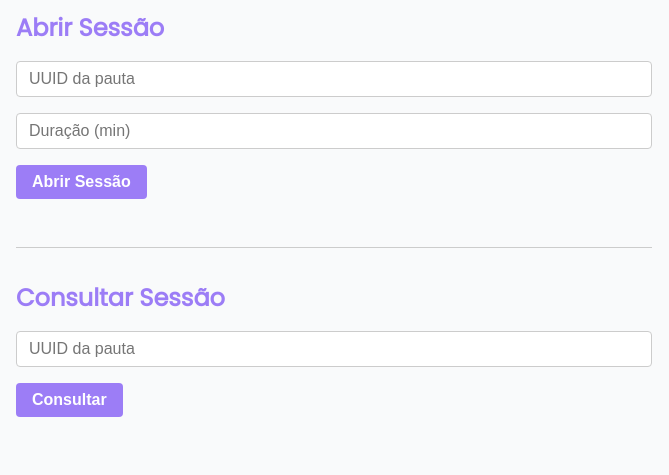
Test: OpenVotingSession › exibe mensagem de erro ao falhar ao abrir sessão
In the 1st field with placeholder "UUID da pauta": point(334, 79) [16, 61, 652, 97], type "123e4567-e89b-12d3-a456-426614174000"
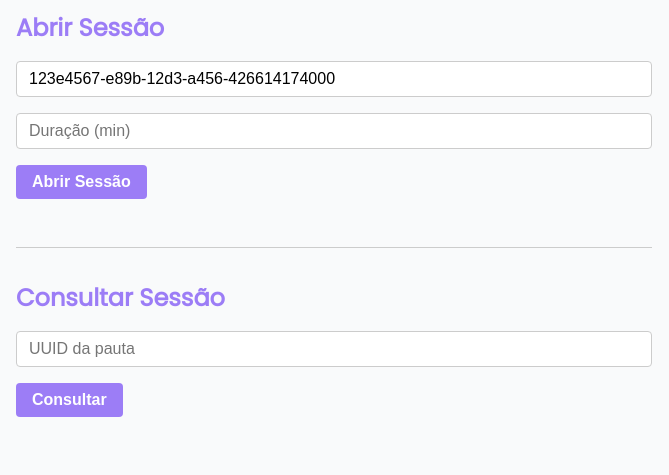
In the field with placeholder "Duração (min)": point(334, 131) [16, 113, 652, 149], type "30"
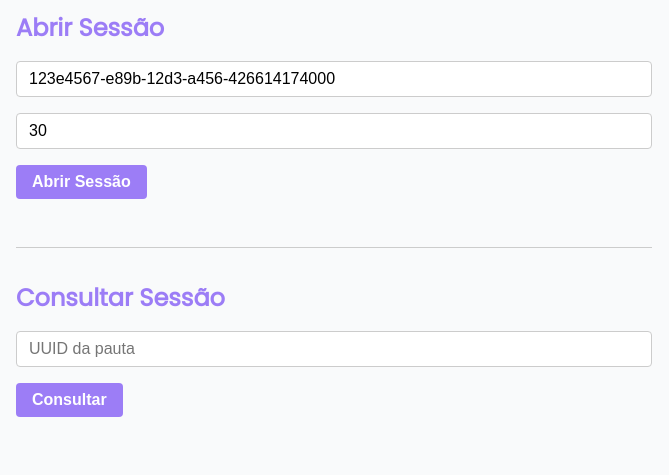
Click the button "Abrir Sessão": point(81, 182) [16, 165, 147, 199]
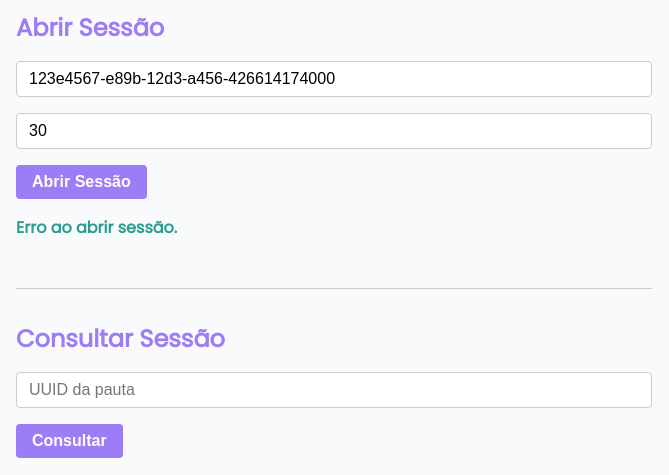
Now the text "Erro ao abrir sessão." is shown, box [16, 216, 177, 239]
